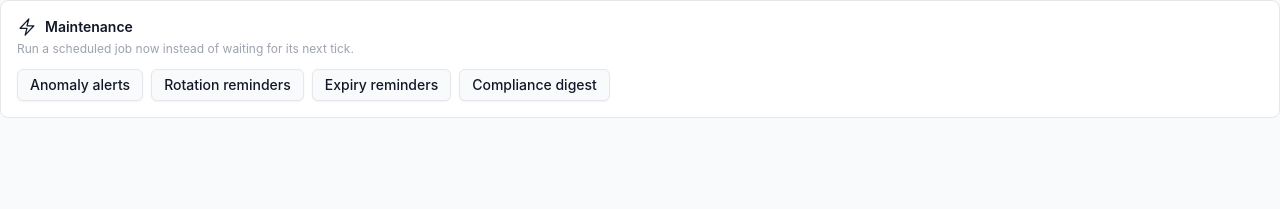
Scenario: MaintenanceSection › runs the expiry-reminders job and surfaces the sent count on success
Click the button "Expiry reminders" at (382, 85), box [312,69,451,101]
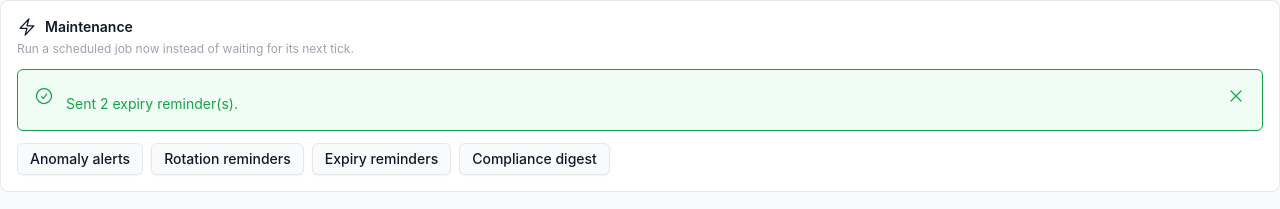
Now the text "Sent 2 expiry reminder(s)." is shown, box [66,95,238,112]
